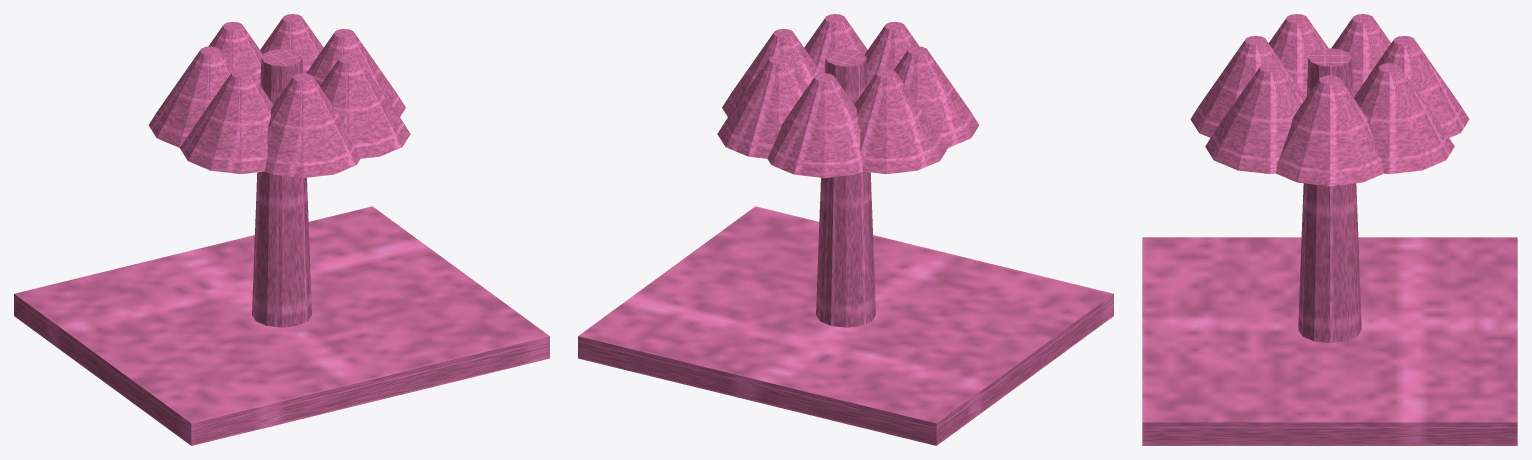
File: dream_orchard_01.glb
The picture shows the model from 3 angles, left to right: view 1: azimuth 30°, elevation 25°; view 2: azimuth 150°, elevation 25°; view 3: azimuth 270°, elevation 25°; orthographic projection. The views are drawn at different scales.
Parts seen in each view (by area): view 1: Foundation, DreamTrunk, DreamPetal.005, DreamPetal.004, DreamPetal.006, DreamPetal.003, DreamPetal, DreamPetal.001, DreamPetal.002; view 2: Foundation, DreamTrunk, DreamPetal.002, DreamPetal.003, DreamPetal.001, DreamPetal.004, DreamPetal, DreamPetal.006, DreamPetal.005; view 3: Foundation, DreamTrunk, DreamPetal, DreamPetal.001, DreamPetal.006, DreamPetal.002, DreamPetal.005, DreamPetal.003, DreamPetal.004.
Part boxes in pixels (x1=…): Foundation: x1=14, y1=206, x2=549, y2=445; DreamTrunk: x1=252, y1=49, x2=311, y2=327; DreamPetal.005: x1=265, y1=73, x2=360, y2=177; DreamPetal.004: x1=180, y1=69, x2=273, y2=173; DreamPetal.006: x1=320, y1=55, x2=410, y2=158; DreamPetal.003: x1=148, y1=46, x2=234, y2=147; DreamPetal: x1=306, y1=29, x2=405, y2=116; DreamPetal.001: x1=260, y1=14, x2=323, y2=73; DreamPetal.002: x1=208, y1=22, x2=262, y2=84; Foundation: x1=578, y1=206, x2=1113, y2=445; DreamTrunk: x1=816, y1=49, x2=875, y2=327; DreamPetal.002: x1=767, y1=73, x2=862, y2=177; DreamPetal.003: x1=854, y1=69, x2=947, y2=173; DreamPetal.001: x1=717, y1=55, x2=807, y2=158; DreamPetal.004: x1=893, y1=46, x2=979, y2=147; DreamPetal: x1=722, y1=29, x2=821, y2=116; DreamPetal.006: x1=804, y1=14, x2=867, y2=73; DreamPetal.005: x1=865, y1=22, x2=919, y2=84; Foundation: x1=1142, y1=237, x2=1517, y2=445; DreamTrunk: x1=1298, y1=48, x2=1361, y2=342; DreamPetal: x1=1276, y1=75, x2=1383, y2=186; DreamPetal.001: x1=1355, y1=63, x2=1454, y2=174; DreamPetal.006: x1=1205, y1=63, x2=1304, y2=174; DreamPetal.002: x1=1354, y1=36, x2=1469, y2=137; DreamPetal.005: x1=1190, y1=36, x2=1305, y2=137; DreamPetal.003: x1=1331, y1=14, x2=1390, y2=97; DreamPetal.004: x1=1269, y1=14, x2=1328, y2=97.
Bounding box in the file's own units: 4.03 × 3.1 × 3.45.
1 material, 1 textured.
